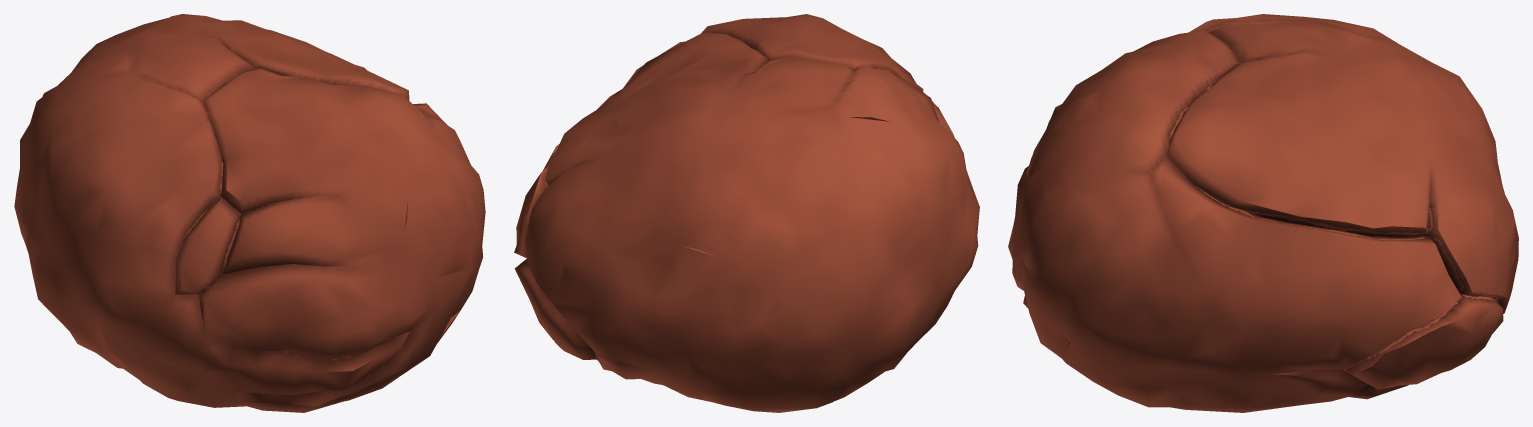
Rendered from arcilla_roja.fbx.
3 renders of one model, left to right at view 1: azimuth 30°, elevation 25°; view 2: azimuth 150°, elevation 25°; view 3: azimuth 270°, elevation 25°, orthographic. The views are drawn at different scales.
Visible parts, largest first — view 1: arcilla_roja; view 2: arcilla_roja; view 3: arcilla_roja.
Boxes of the visible parts, left/top/right/bottom form: arcilla_roja: left=14, top=14, right=485, bottom=412; arcilla_roja: left=514, top=14, right=979, bottom=412; arcilla_roja: left=1008, top=14, right=1518, bottom=412.
Bounding box in the file's own units: 2.33 × 1.85 × 2.7.
Materials: 1 (1 with a texture image).
